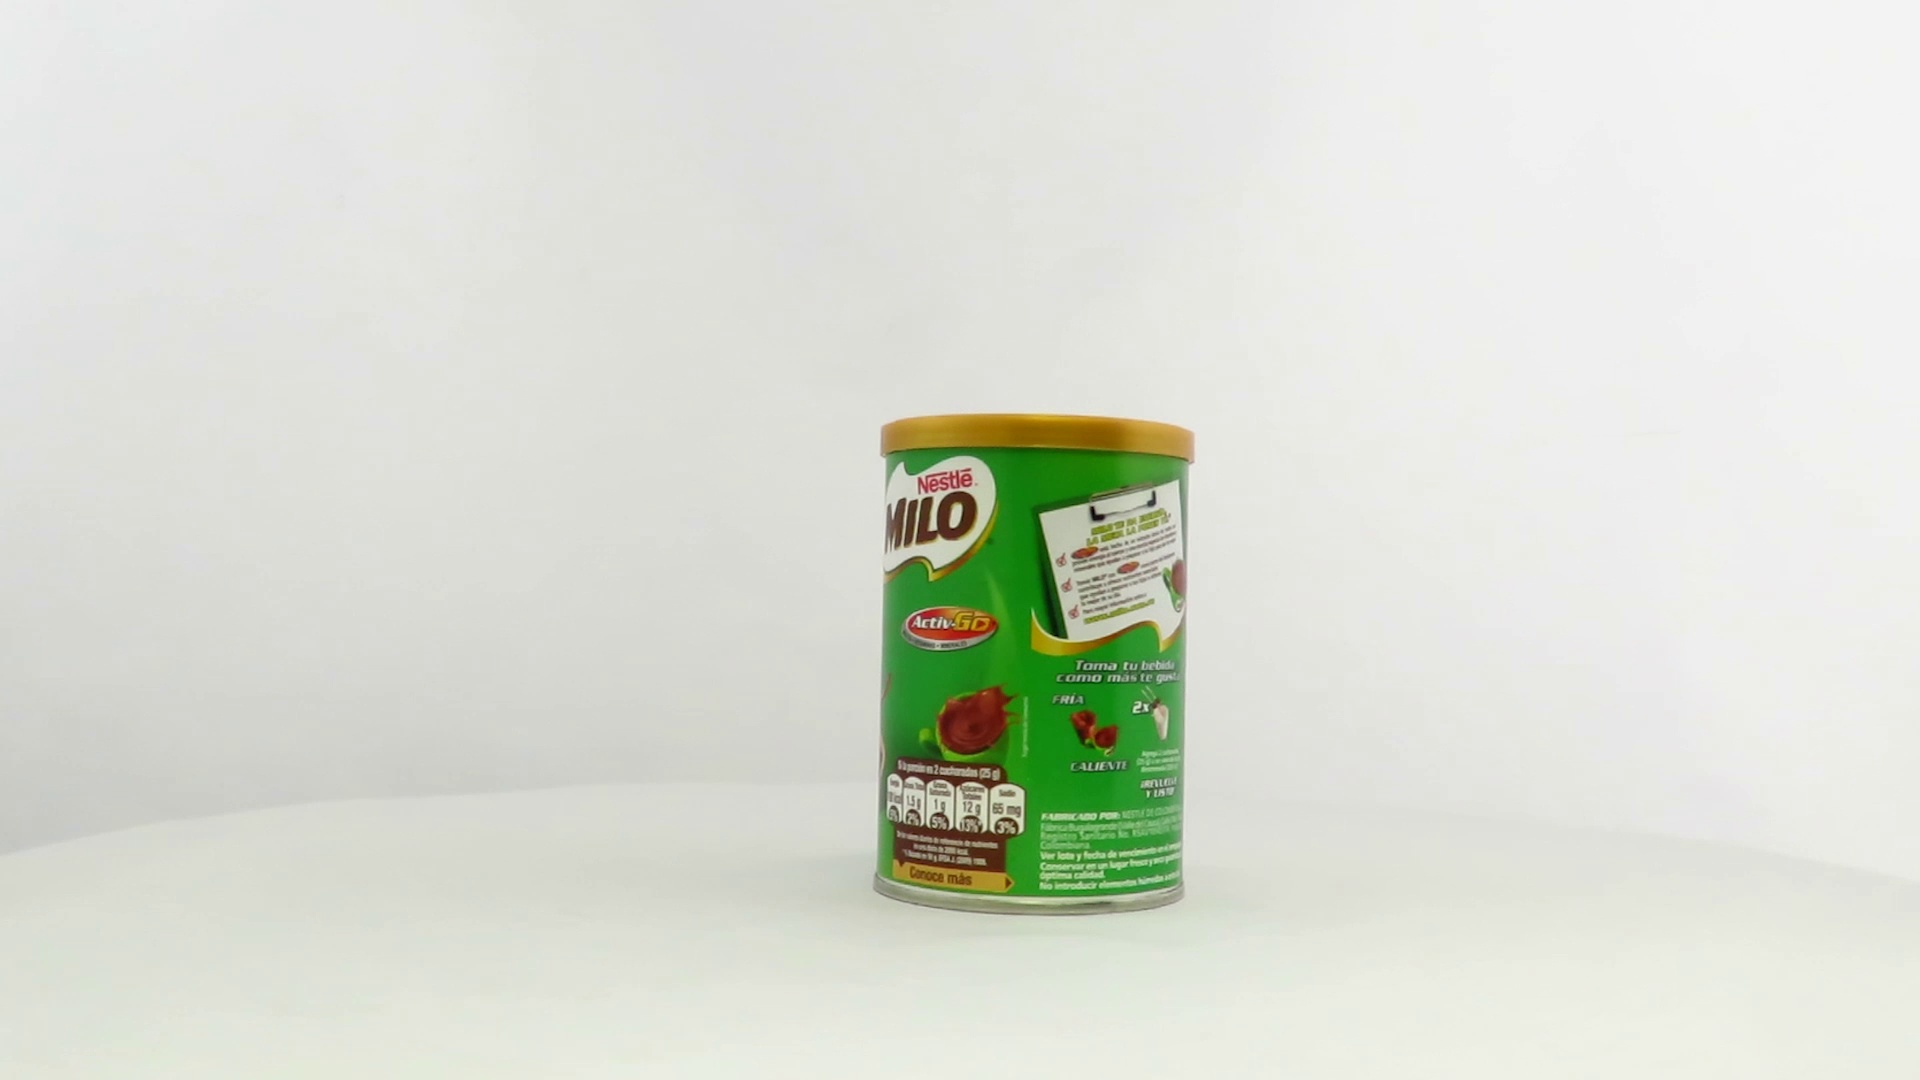COL0170203LAT20000: (868, 407, 1201, 923)
